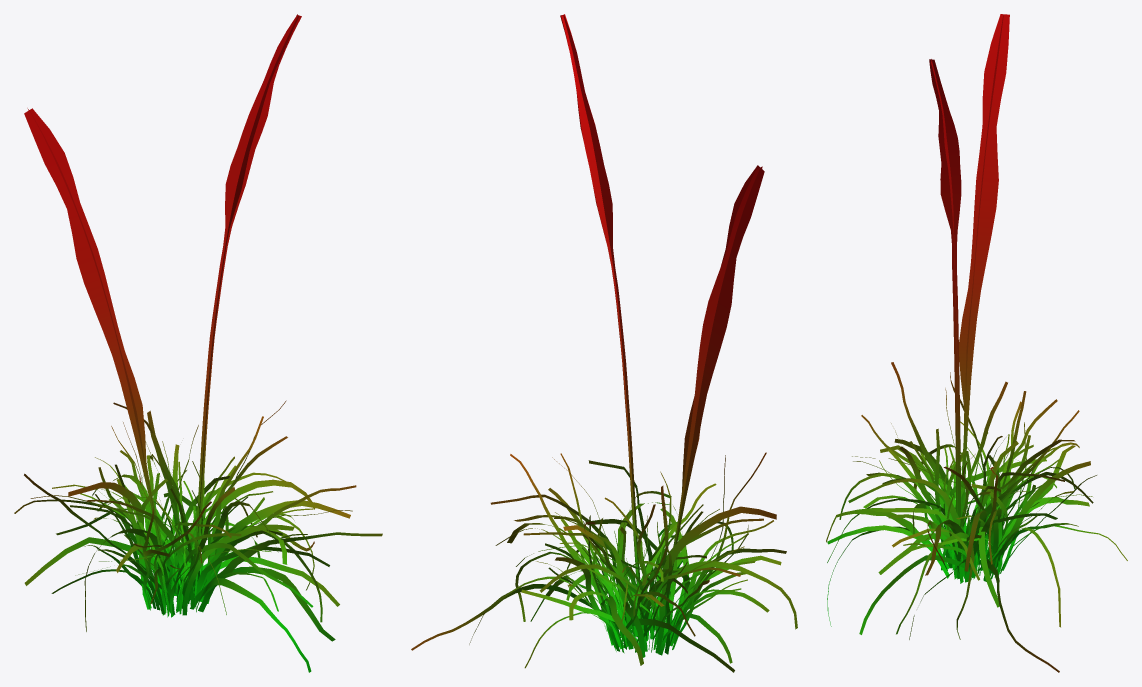
File: Wheat_LOD0_Var5_smdoejyr.fbx
The picture shows the model from 3 angles, left to right: view 1: azimuth 30°, elevation 25°; view 2: azimuth 150°, elevation 25°; view 3: azimuth 270°, elevation 25°; orthographic projection. The views are drawn at different scales.
Visible parts, largest first — view 1: _iy0a_Var5_LOD0; view 2: _iy0a_Var5_LOD0; view 3: _iy0a_Var5_LOD0.
Part boxes in pixels (x1,y1,x2,y2): _iy0a_Var5_LOD0: (14,14,382,672); _iy0a_Var5_LOD0: (411,14,797,672); _iy0a_Var5_LOD0: (826,14,1127,672).
Bounding box in the file's own units: 29.15 × 53.24 × 24.81.
